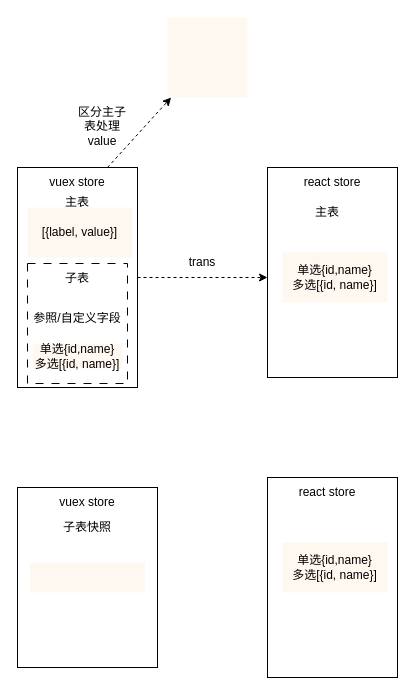
This 415x695 diagram has some shape labels left out. Each missing label, with the centre of its shape:
"engine [{id, name}] 单选/多选" belongs at pixel 207 57.
"标准引用、自定义 [{label, value}]" belongs at pixel 87 577.
